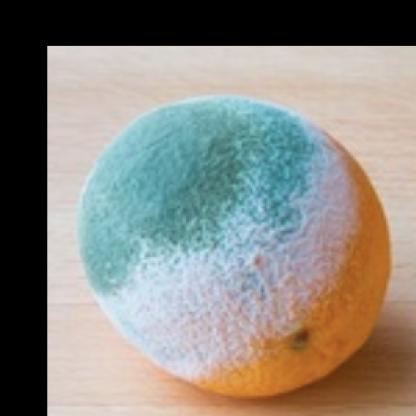rotten: (83, 98, 395, 403)
